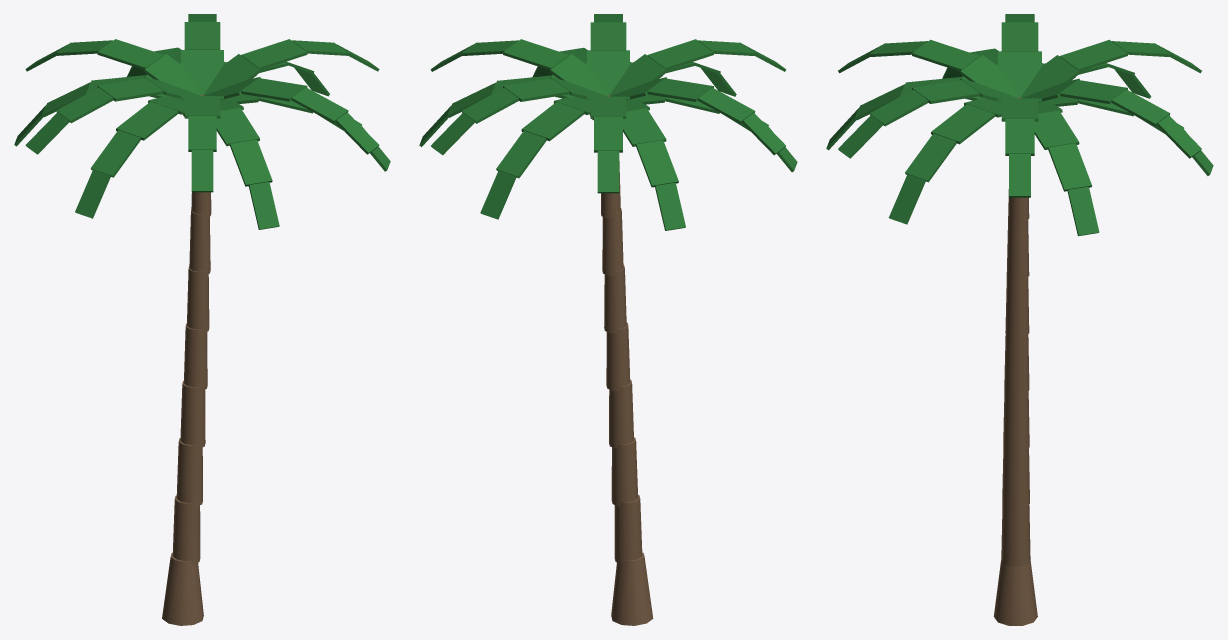
File: prop_palm.glb
The picture shows the model from 3 angles, left to right: view 1: azimuth 30°, elevation 25°; view 2: azimuth 150°, elevation 25°; view 3: azimuth 270°, elevation 25°; orthographic projection. The views are drawn at different scales.
Visible parts, largest first — view 1: prop_palm; view 2: prop_palm; view 3: prop_palm.
Part boxes in pixels (x1,y1,x2,y2): prop_palm: (14, 14, 390, 625); prop_palm: (419, 14, 797, 625); prop_palm: (826, 14, 1213, 625).
Size of the model in its own units: 6.65 by 10.03 by 6.32.
